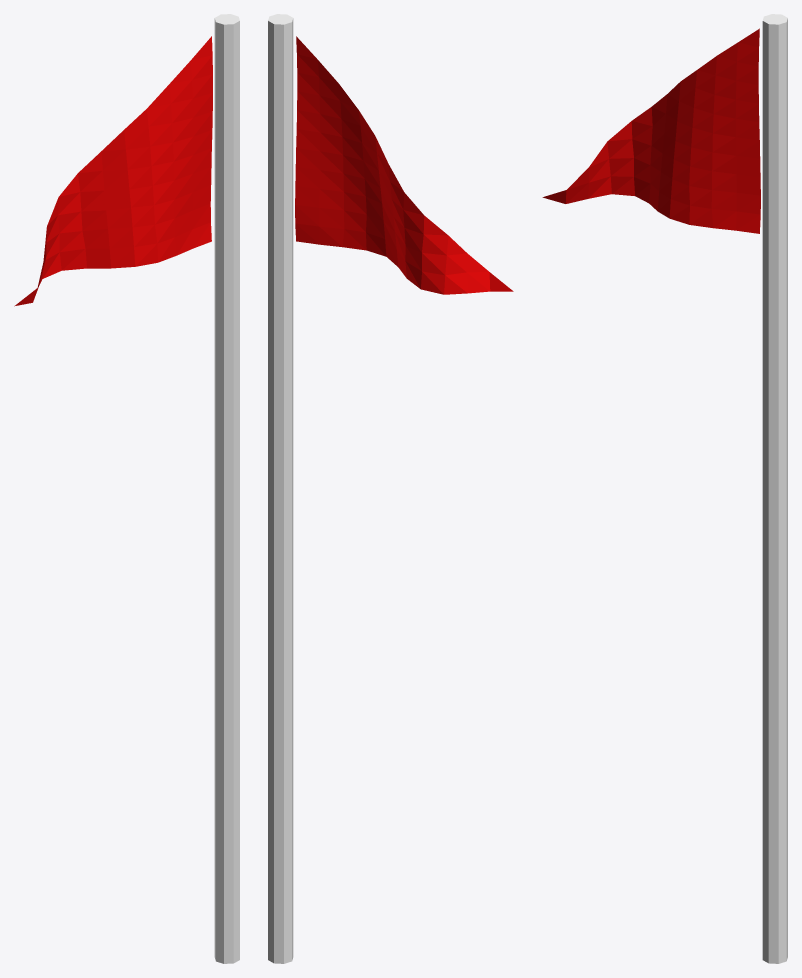
The model's file is low-poly-golf-flag-animated.glb.
The picture shows the model from 3 angles, left to right: view 1: azimuth 30°, elevation 25°; view 2: azimuth 150°, elevation 25°; view 3: azimuth 330°, elevation 25°; orthographic projection.
Visible parts, largest first — view 1: Cylinder_001_6_0, Plane; view 2: Cylinder_001_6_0, Plane; view 3: Cylinder_001_6_0, Plane.
Boxes of the visible parts, box(x1,y1,x2,y2) form: Cylinder_001_6_0: box(214, 14, 239, 963); Plane: box(14, 36, 212, 306); Cylinder_001_6_0: box(268, 14, 293, 963); Plane: box(295, 36, 513, 294); Cylinder_001_6_0: box(762, 14, 787, 963); Plane: box(542, 28, 760, 233).
Bounding box in the file's own units: 2 × 7.65 × 0.3469.
